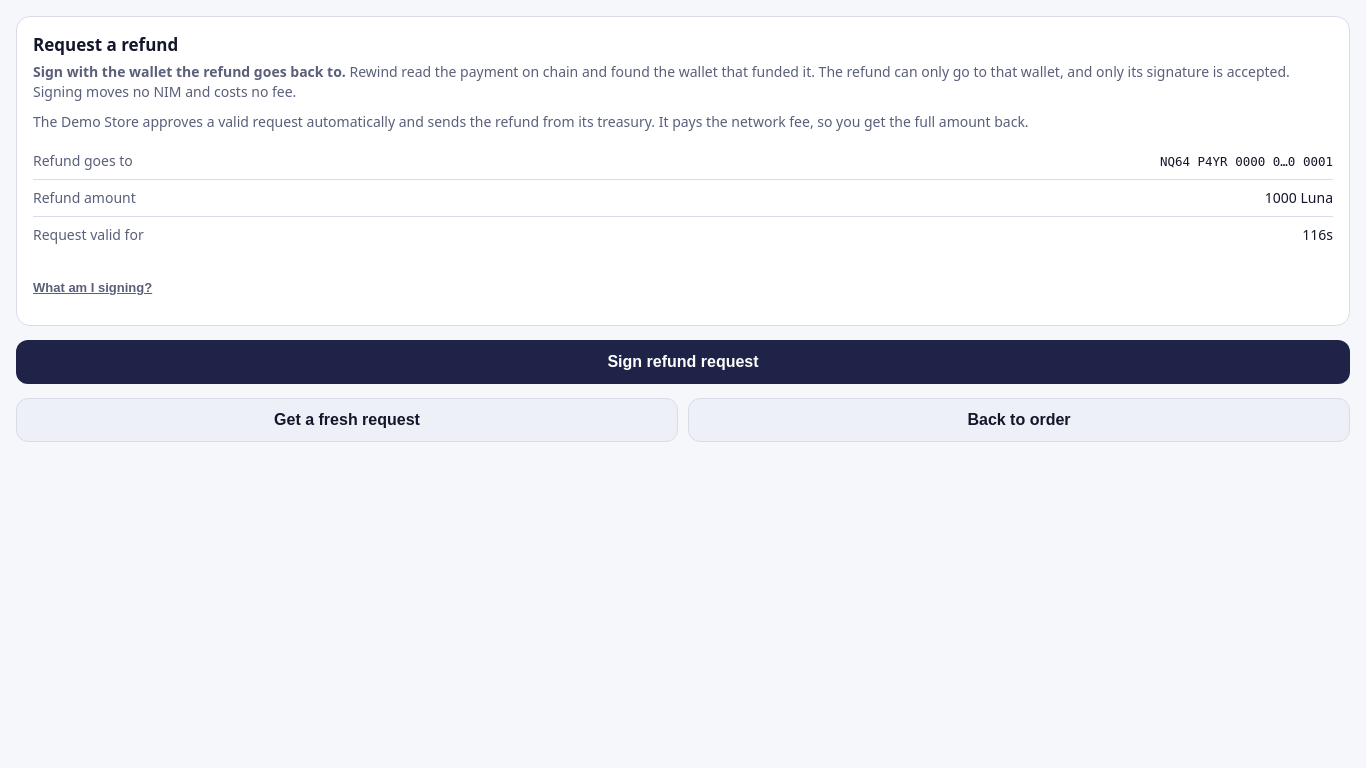
Refund request › shows a rejected signature in the API's own words
The image size is (1366, 768).
Click the button "Sign refund request" at {"x": 683, "y": 362}, box [16,340,1350,384]
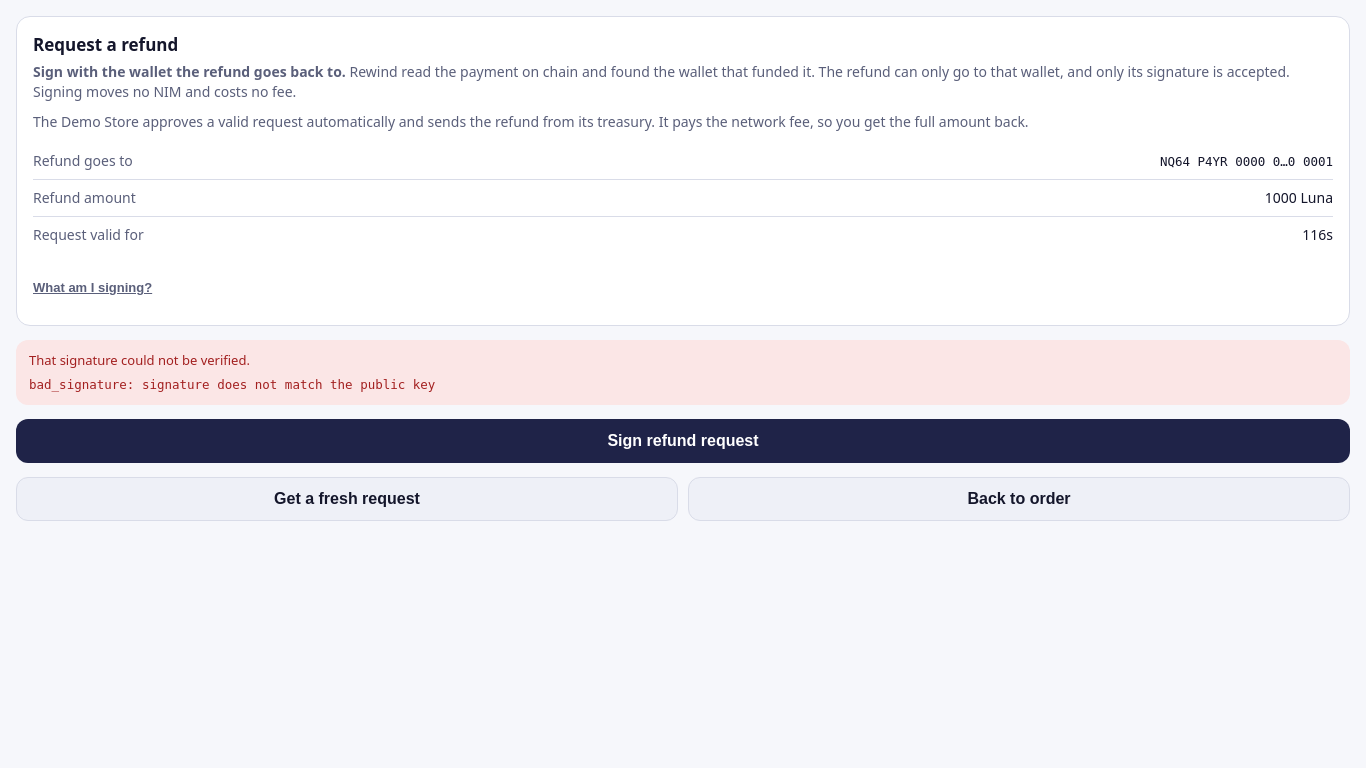
Expected: the text "That signature could not be verified." is shown, [29,351,250,369]
Expected: the text "bad_signature: signature does not match the public key" is shown, [29,377,435,392]
